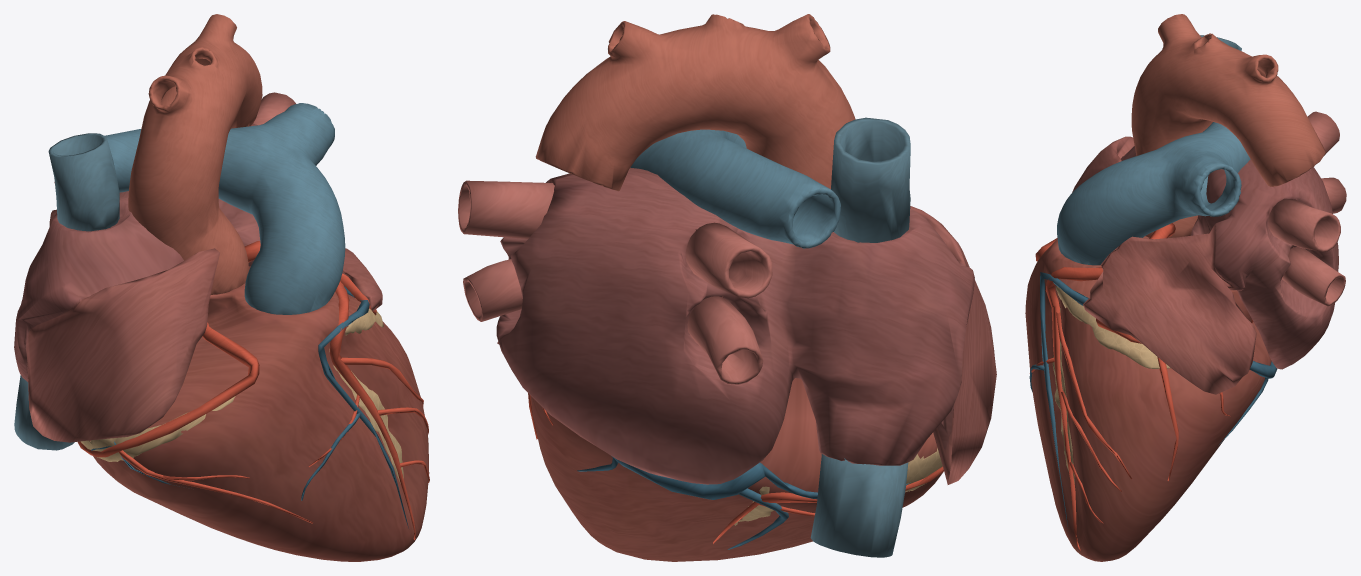
The model's file is overview.glb.
The picture shows the model from 3 angles, left to right: view 1: azimuth 30°, elevation 25°; view 2: azimuth 150°, elevation 25°; view 3: azimuth 270°, elevation 25°; orthographic projection. The views are drawn at different scales.
Parts seen in each view (by area): view 1: heart; view 2: heart; view 3: heart.
Part boxes in pixels (box(x1,y1,x2,y2)): heart: box(14, 14, 429, 561); heart: box(458, 14, 996, 561); heart: box(1025, 14, 1346, 561).
Size of the model in its own units: 0.0983 by 0.1272 by 0.0794.
Materials: 10 (10 with a texture image).
